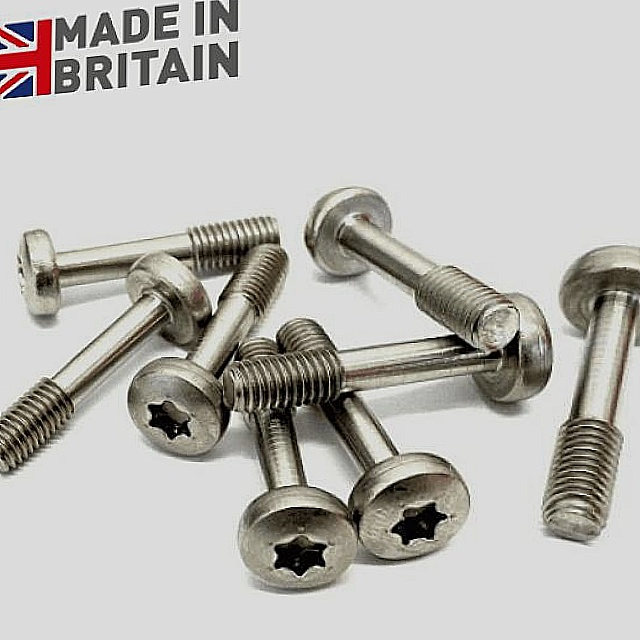torx: (348, 449, 474, 566), (236, 484, 359, 597), (125, 355, 229, 460)
